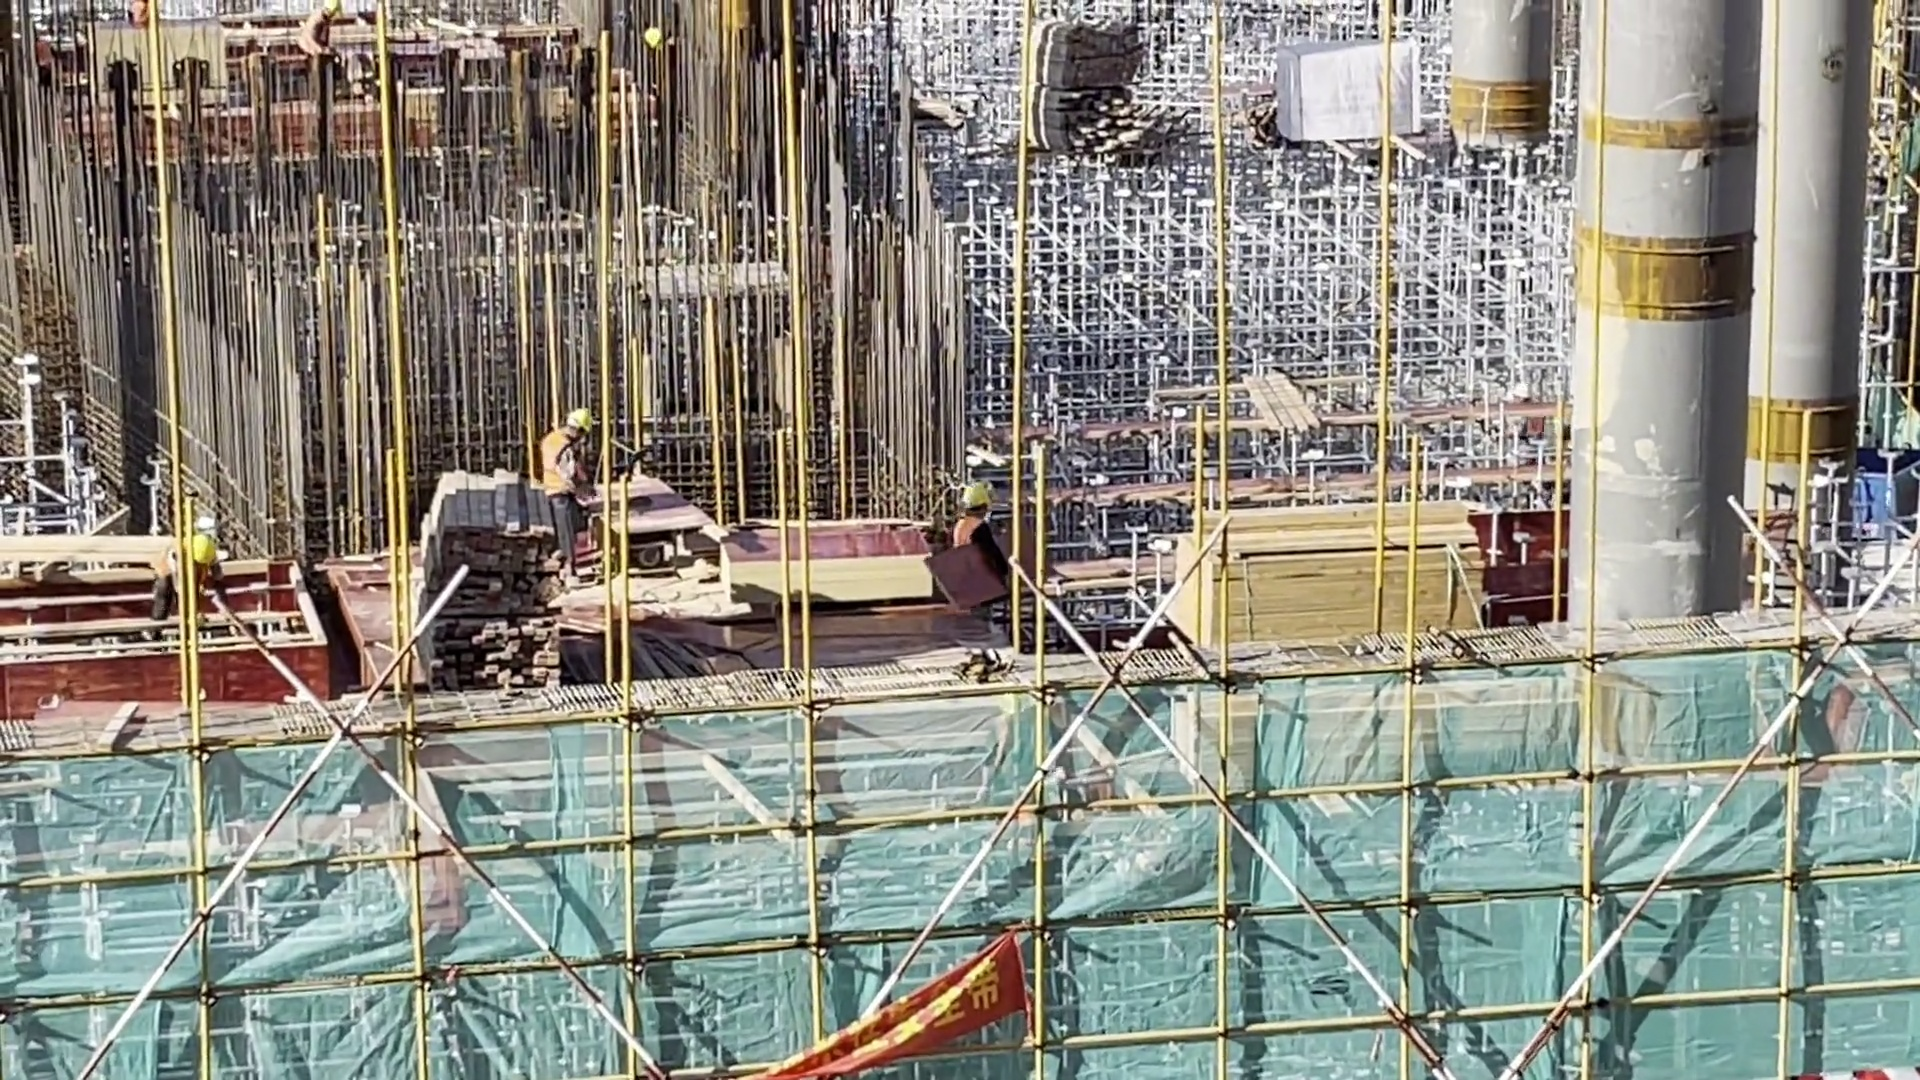helmet: (954, 476, 996, 517), (564, 404, 592, 438)
person: (536, 398, 608, 601), (945, 461, 1006, 639)
vest: (537, 427, 578, 504), (949, 519, 989, 552)
